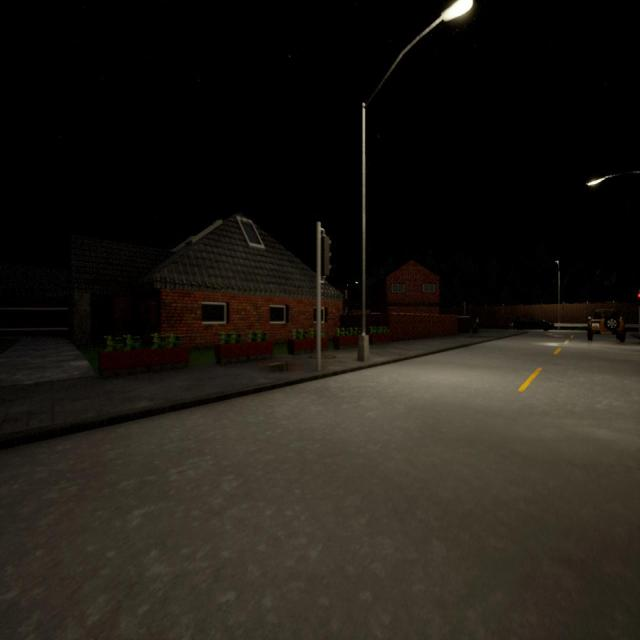Vehicle: (587, 308, 626, 342), (508, 315, 554, 331)
traffic_light: (321, 235, 332, 278), (637, 293, 640, 305)
